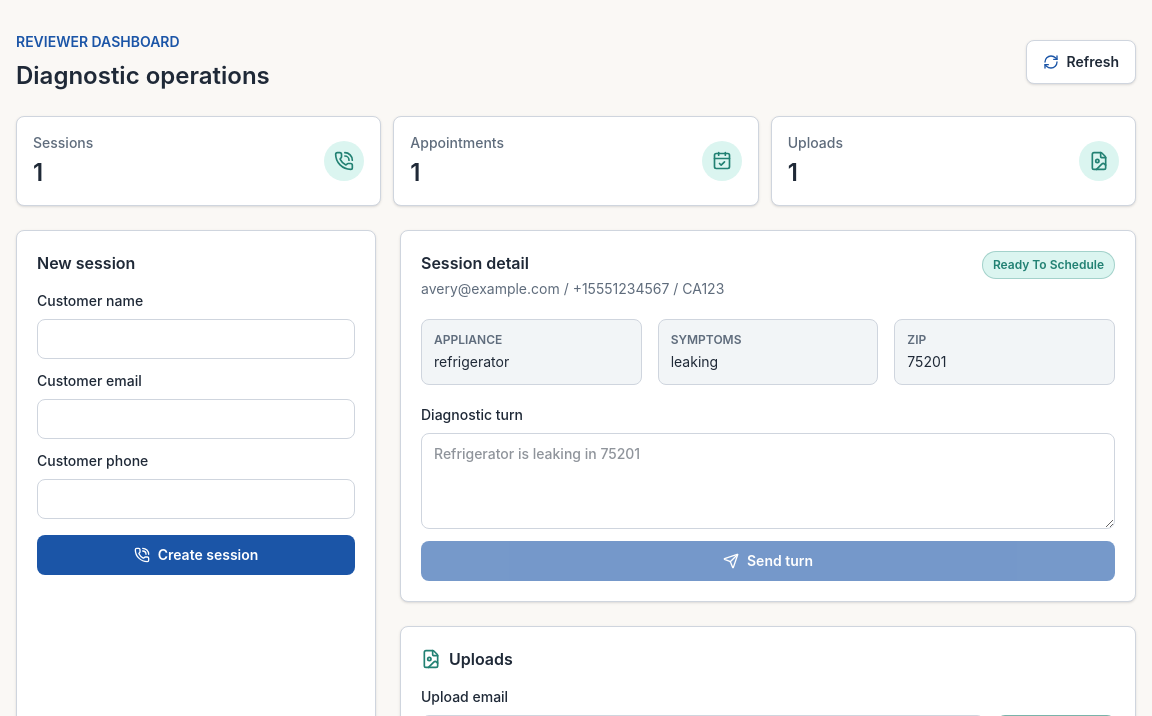
Test: Dashboard › validates contact details before creating a session
Check: the heading "Diagnostic operations" is shown, box [16,60,270,92]
Click the button "Create session".
click(196, 555)  # box [37,535,355,575]
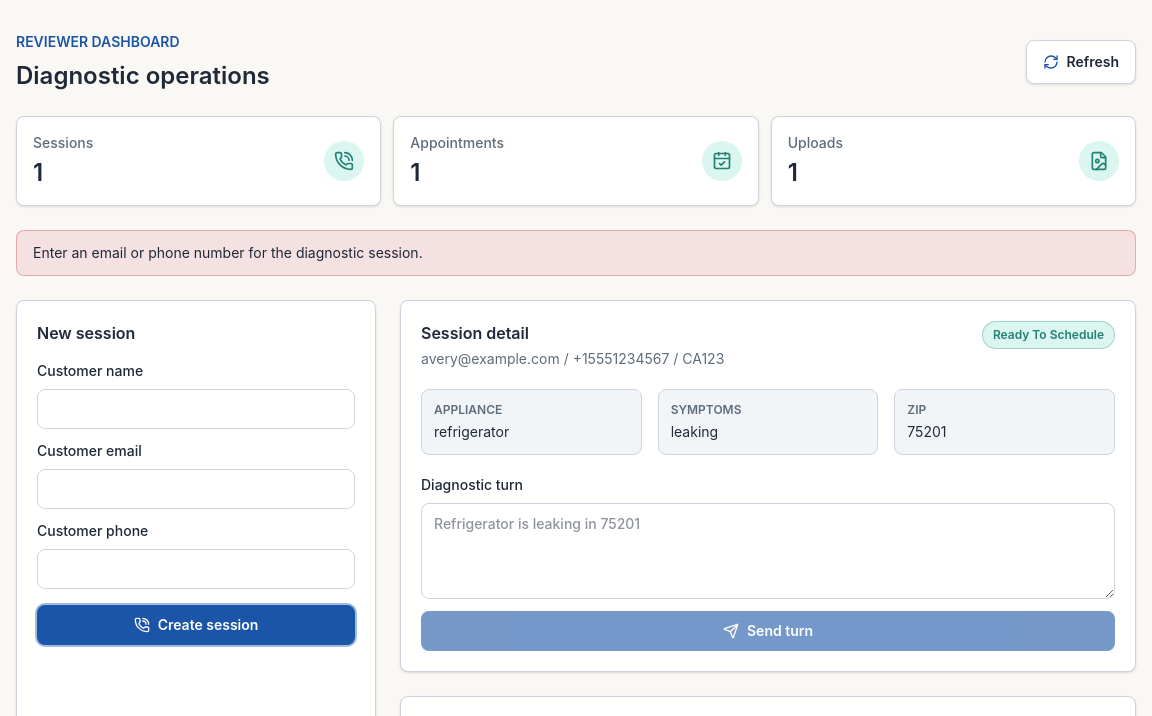
Check: the message reads "Enter an email or phone number for the diagnostic session.", box [33,244,423,261]
